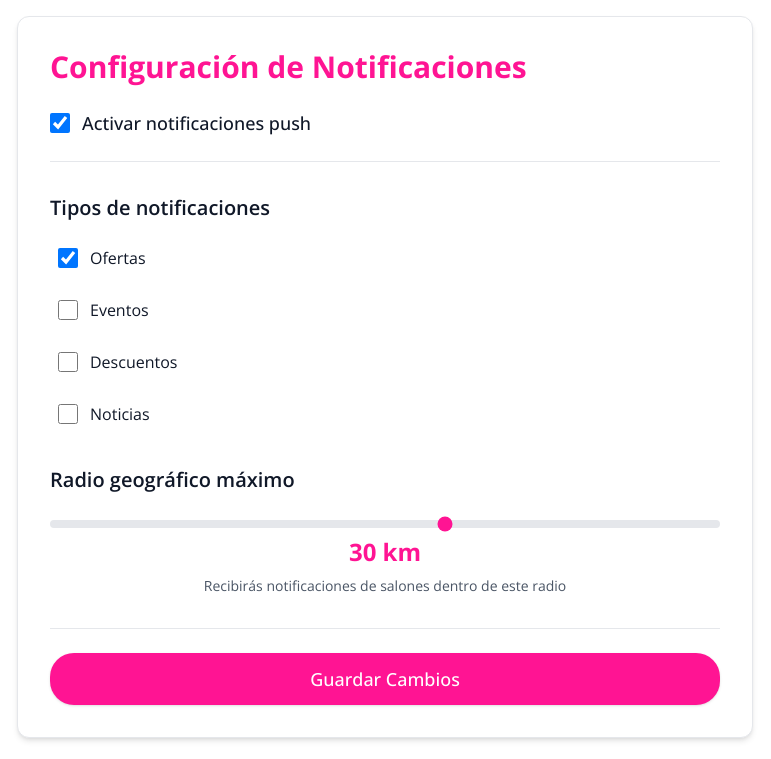
Test: NotificationSettings › should update radius value
Expected: the text "30 km" is shown, [349, 535, 421, 568]
Set the slider to "40" at (579, 524), box [50, 520, 720, 528]
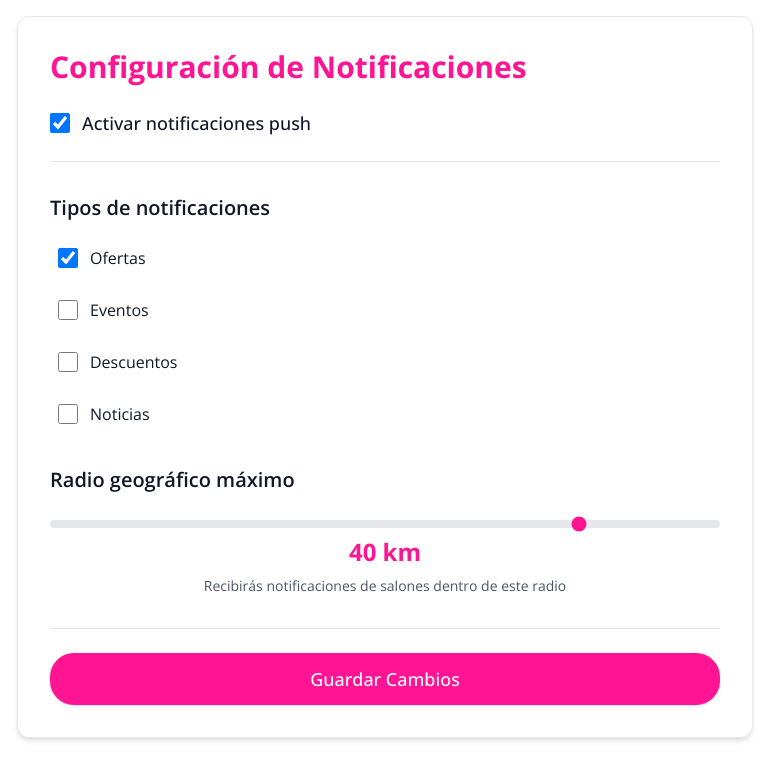
Result: the text "40 km" is shown at [349, 535, 421, 568]
